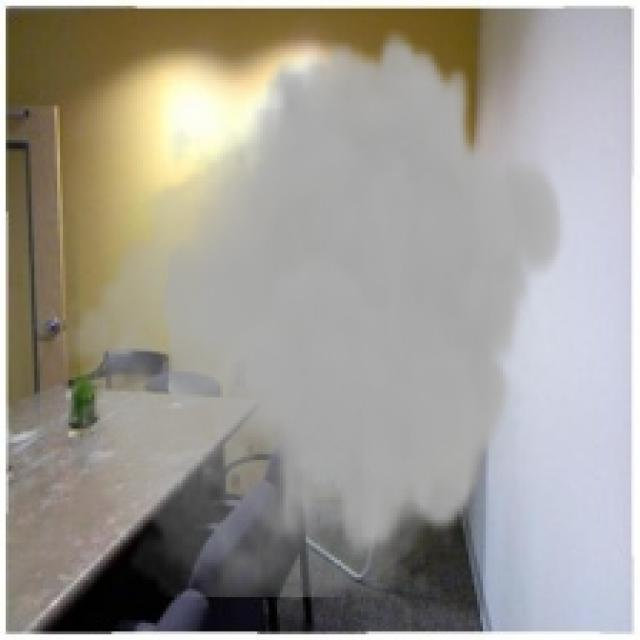Smoke: (51, 29, 568, 598)
